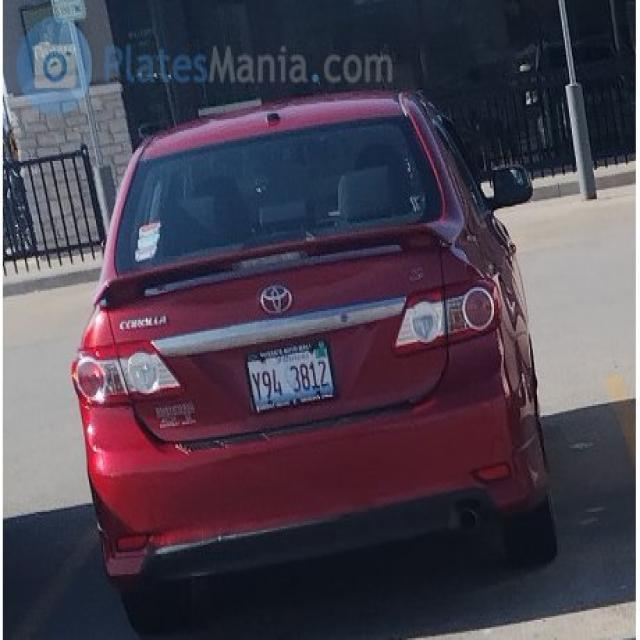license: (236, 342, 352, 418)
